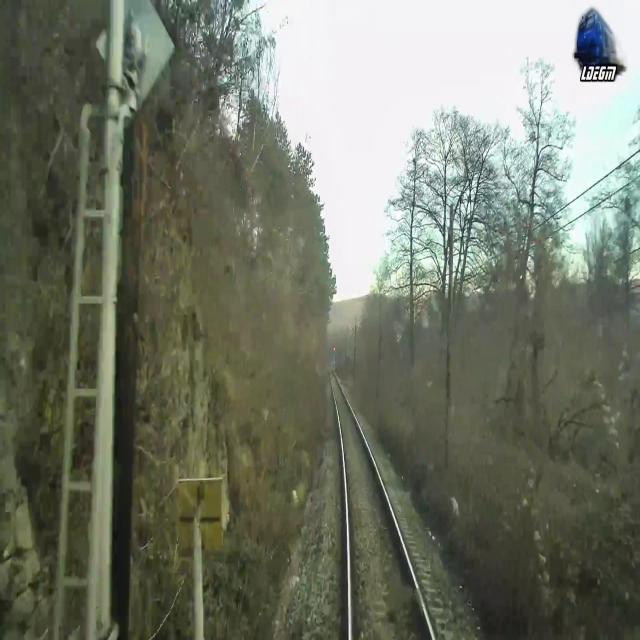rail-track: (331, 373, 430, 639)
